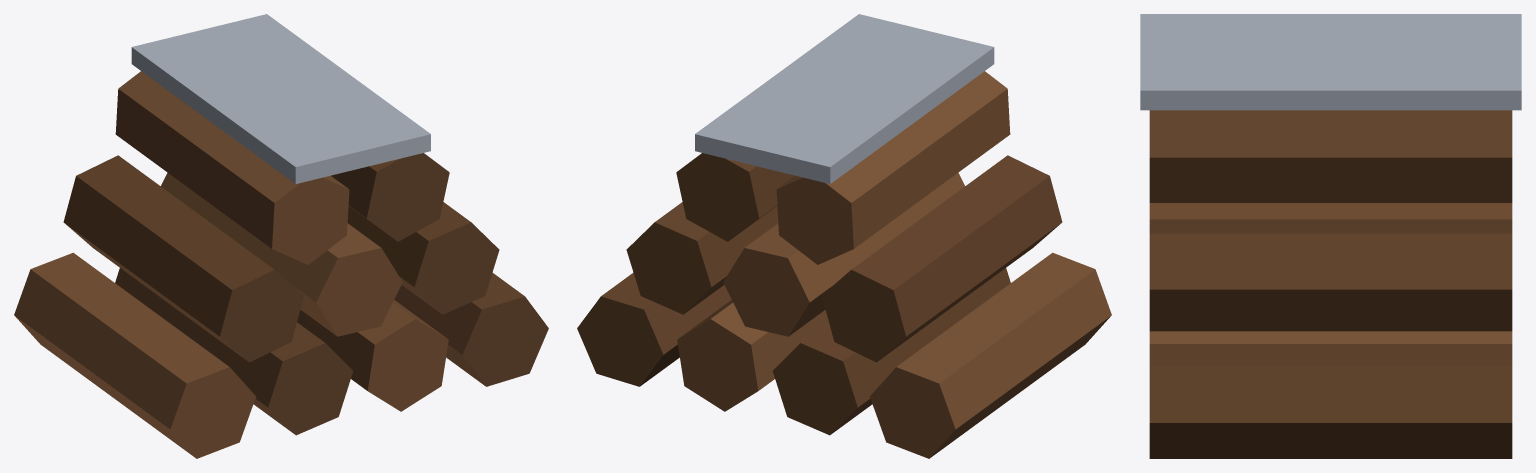
File: woodpile.glb
3 views of the same model, side by side, from view 1: azimuth 30°, elevation 25°; view 2: azimuth 150°, elevation 25°; view 3: azimuth 270°, elevation 25° (orthographic). The views are drawn at different scales.
Parts seen in each view (by area): view 1: woodpile2; view 2: woodpile2; view 3: woodpile2.
Part boxes in pixels (x1,y1,x2,y2): woodpile2: (14, 14, 548, 458); woodpile2: (577, 14, 1111, 458); woodpile2: (1140, 14, 1521, 458).
Bounding box in the file's own units: 1.4 × 0.9678 × 1.05.
